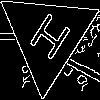H: (22, 11, 73, 69)
